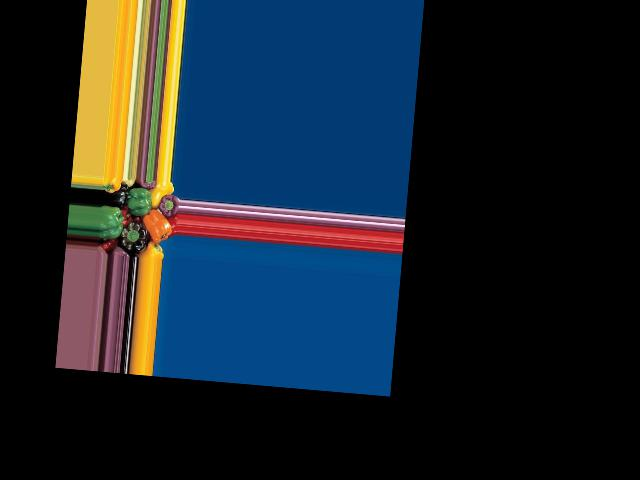bell_pepper: (97, 206, 121, 241)
